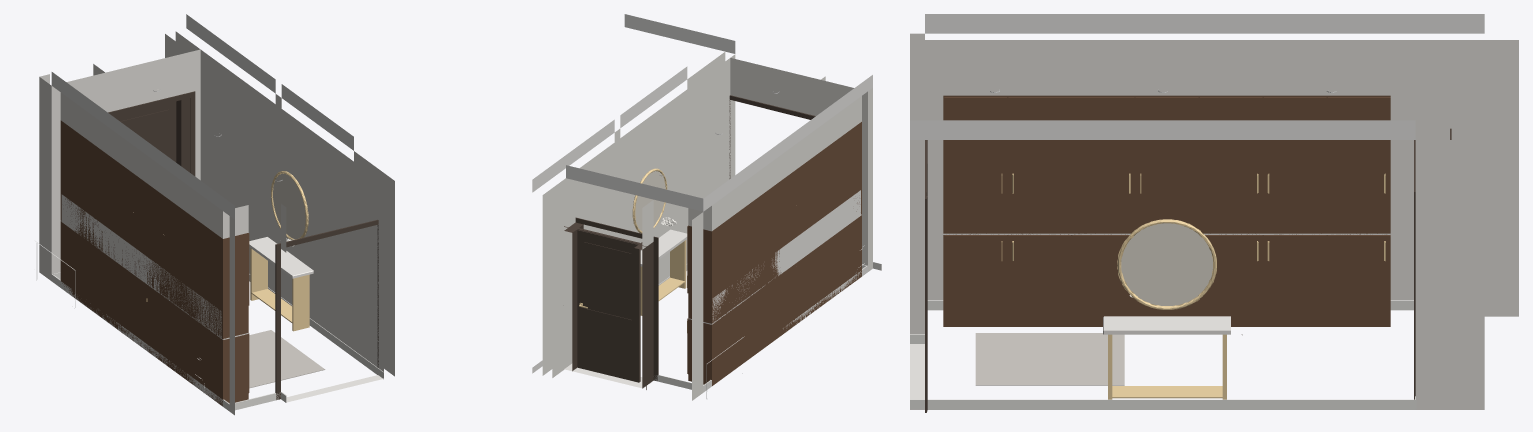
File: ENTRY.glb
3 views of the same model, side by side, from view 1: azimuth 30°, elevation 25°; view 2: azimuth 150°, elevation 25°; view 3: azimuth 270°, elevation 25° (orthographic). The views are drawn at different scales.
Visible parts, largest first — view 1: WEB_ENTRY; view 2: WEB_ENTRY; view 3: WEB_ENTRY.
Part boxes in pixels (left/top/right/bottom): WEB_ENTRY: left=34, top=14, right=394, bottom=415; WEB_ENTRY: left=532, top=14, right=881, bottom=400; WEB_ENTRY: left=910, top=14, right=1518, bottom=412.
Bounding box in the file's own units: 4.2 × 3 × 5.72.
